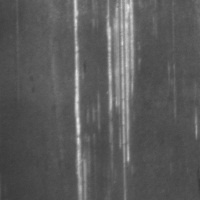scratches: (102, 1, 139, 167), (70, 1, 91, 199)
